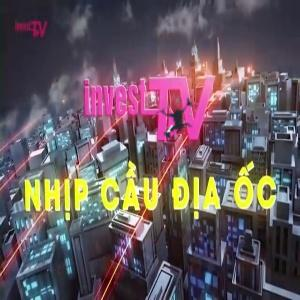drone: (133, 74, 222, 163)
